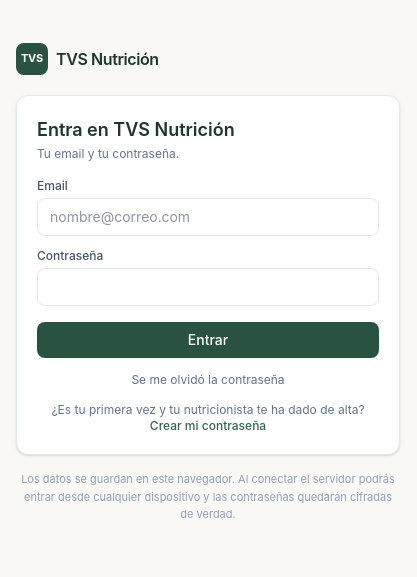
Se me olvidó la contraseña › con la fecha equivocada no cambia nada
Step 1. Click the button "Se me olvidó la contraseña" → (208,380), box x1=131 y1=372 x2=285 y2=388
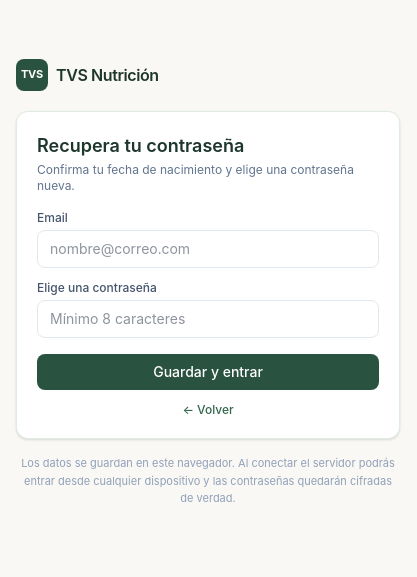
Step 2. Type "vanessa@correo.com" into the field labelled "Email" → (208,249), box x1=37 y1=230 x2=379 y2=268
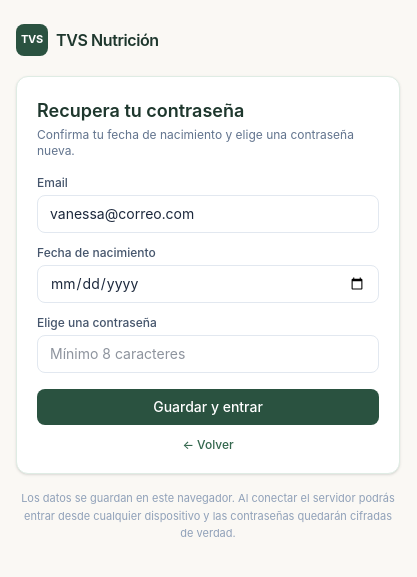
Step 3. Type "1990-01-01" into the date field labelled "Fecha de nacimiento" → (208,284), box x1=37 y1=265 x2=379 y2=303
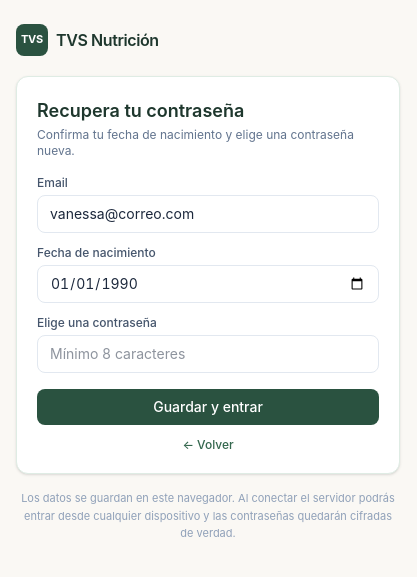
Step 4. Type "nueva12345" into the password field labelled "Elige una contraseña" → (208,354), box x1=37 y1=335 x2=379 y2=373
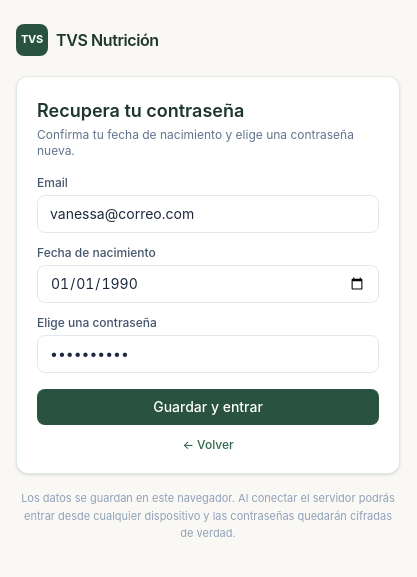
Step 5. Click the button "Guardar y entrar" → (208,407), box x1=37 y1=389 x2=379 y2=425
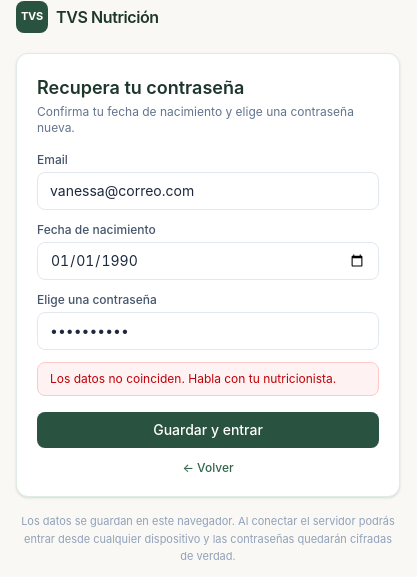
Result: the text "Los datos no coinciden. Habla con tu nutricionista." is shown at x1=37 y1=362 x2=379 y2=396
